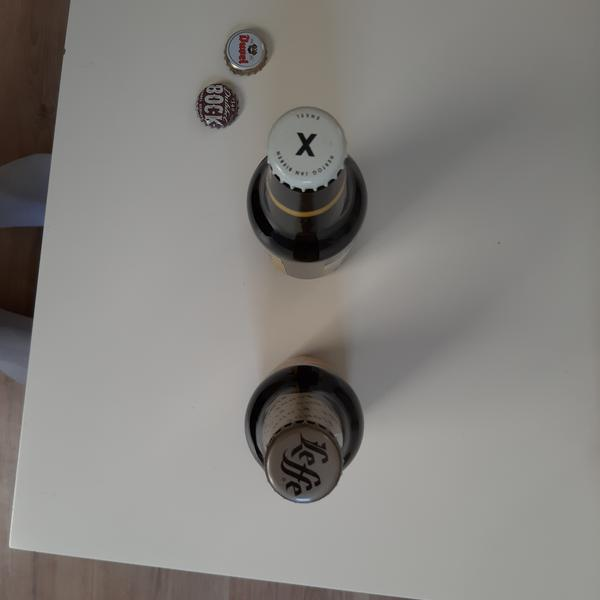leffe: (264, 425, 343, 508)
